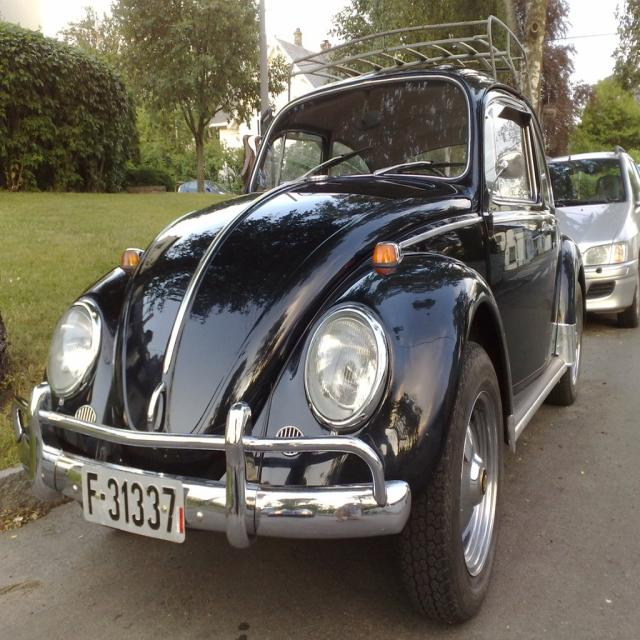car: (30, 78, 595, 609)
